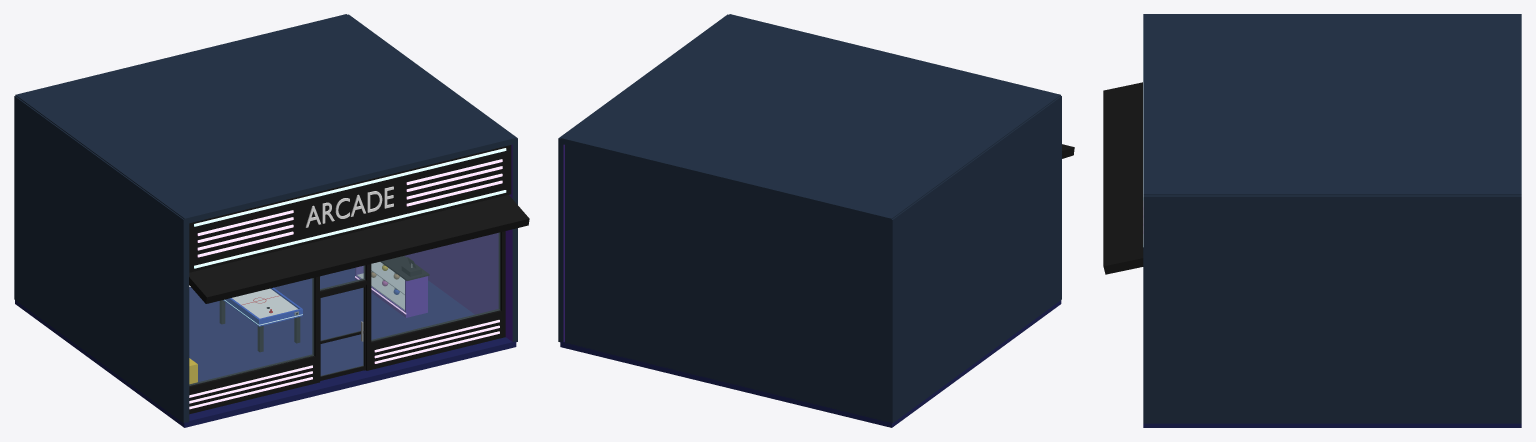
File: Arcade.fbx
3 renders of one model, left to right at view 1: azimuth 30°, elevation 25°; view 2: azimuth 150°, elevation 25°; view 3: azimuth 270°, elevation 25°, orthographic. The views are drawn at different scales.
Visible parts, largest first — view 1: Building, ArcadeDoor, PrizeCounter, AirHockeyTable; view 2: Building; view 3: Building.
Part boxes in pixels (<box>): Building: <box>14,14,529,427</box>; ArcadeDoor: <box>320,285,365,381</box>; PrizeCounter: <box>355,256,429,317</box>; AirHockeyTable: <box>219,287,302,352</box>; Building: <box>558,14,1074,427</box>; Building: <box>1103,14,1521,427</box>.
Size of the model in its own units: 9.12 by 5.45 by 8.85.
